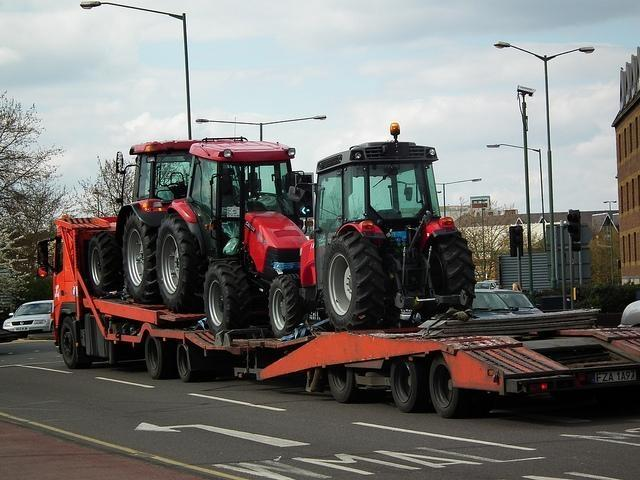car: (3, 300, 55, 333), (494, 288, 544, 316), (472, 289, 515, 319), (474, 282, 498, 288)
truck: (38, 214, 640, 417), (84, 122, 477, 338)
